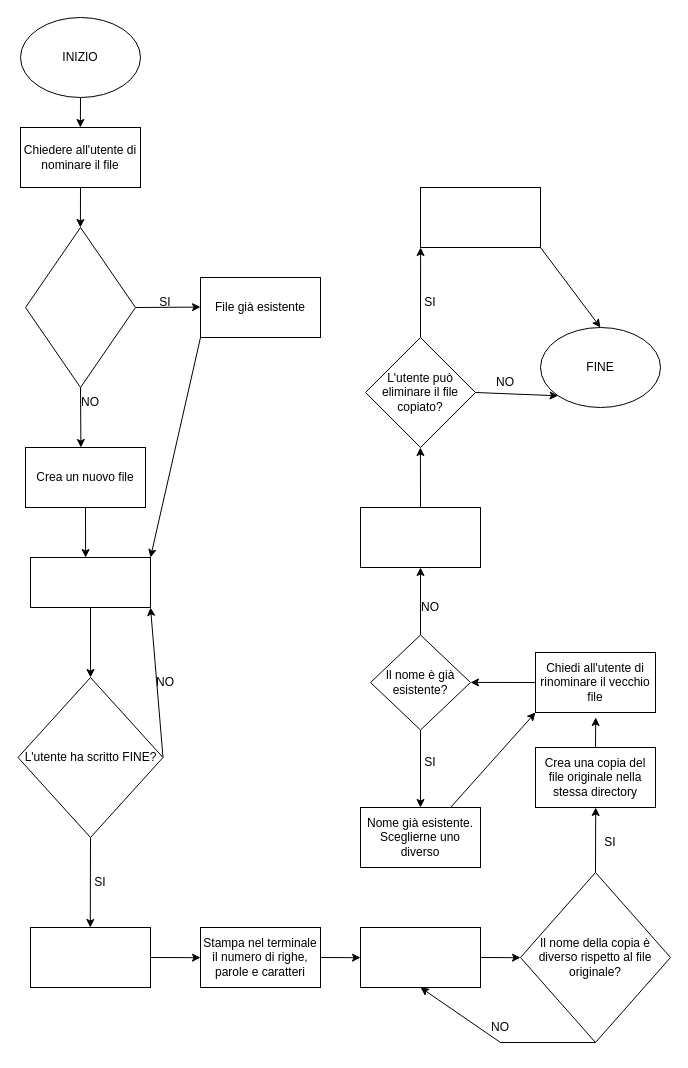
Image size: 688x1068. Some labels were removed from this diagram. Here are the shapes that lost their labels. From the top down, the centre of each, then its label:
[480,217]: Rimuovi il file copiato
[80,307]: Esiste già un file con quel nome?
[420,537]: Rinominare il file
[90,582]: Inserire una riga
[90,957]: Mostrare il contenuto del file nel terminale
[420,957]: Chiedi all'utente il nome del file per creare una copia
